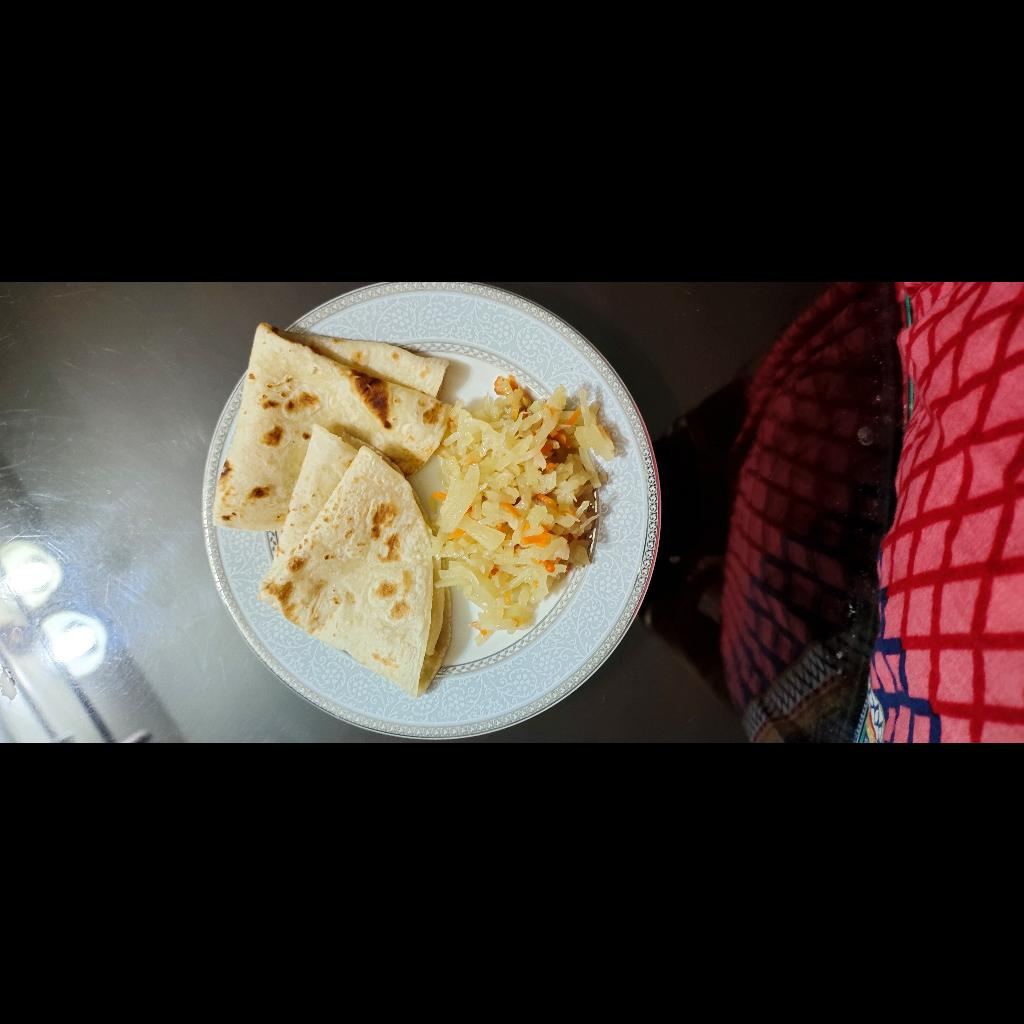ruti: (44, 490, 430, 745)
vegetable: (98, 716, 373, 902)
